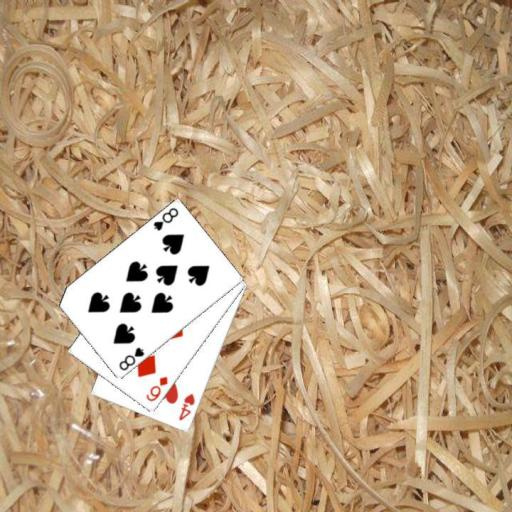4H: (176, 391, 196, 423)
6D: (143, 374, 169, 404)
8S: (116, 344, 146, 373), (150, 205, 180, 232)
